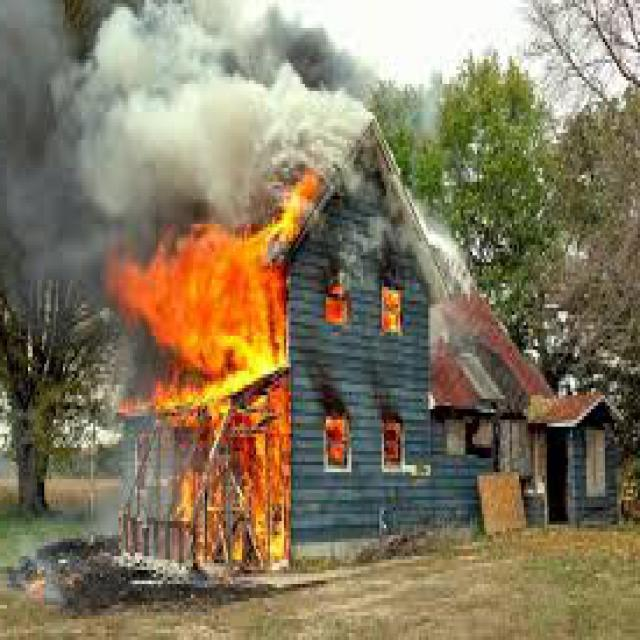Fire: (100, 160, 417, 584)
Smoke: (0, 9, 329, 210)
